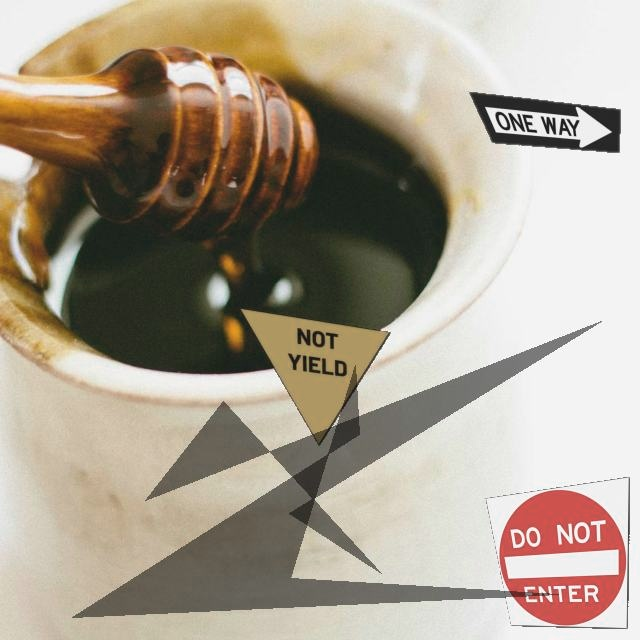DO_NOT_ENTER: (485, 476, 630, 629)
NOT_YIELD: (238, 307, 391, 446)
ONE_WAY_ right: (468, 91, 621, 153)
